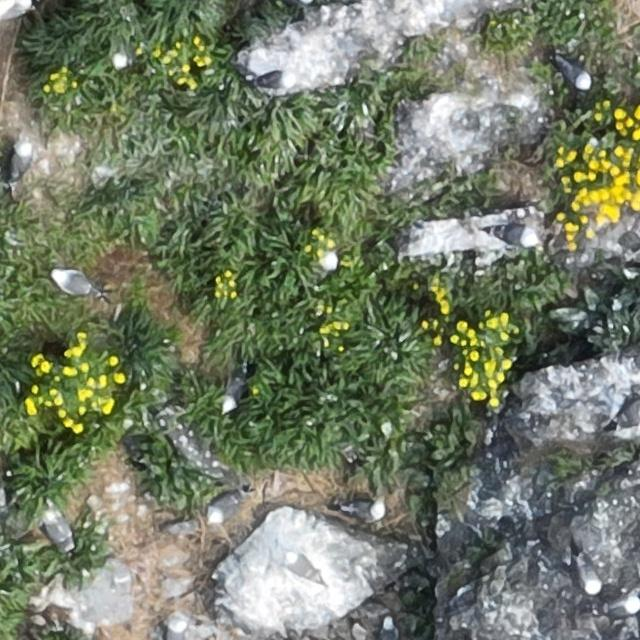umineko: (284, 552, 325, 584), (52, 270, 96, 295), (253, 70, 298, 94), (44, 513, 71, 550), (561, 59, 593, 89), (492, 226, 534, 246), (600, 599, 638, 621), (211, 496, 242, 522), (11, 143, 31, 180), (346, 502, 386, 520), (224, 374, 244, 409), (164, 613, 191, 638), (580, 563, 599, 594), (112, 44, 133, 71), (319, 251, 337, 273), (379, 617, 395, 640)
